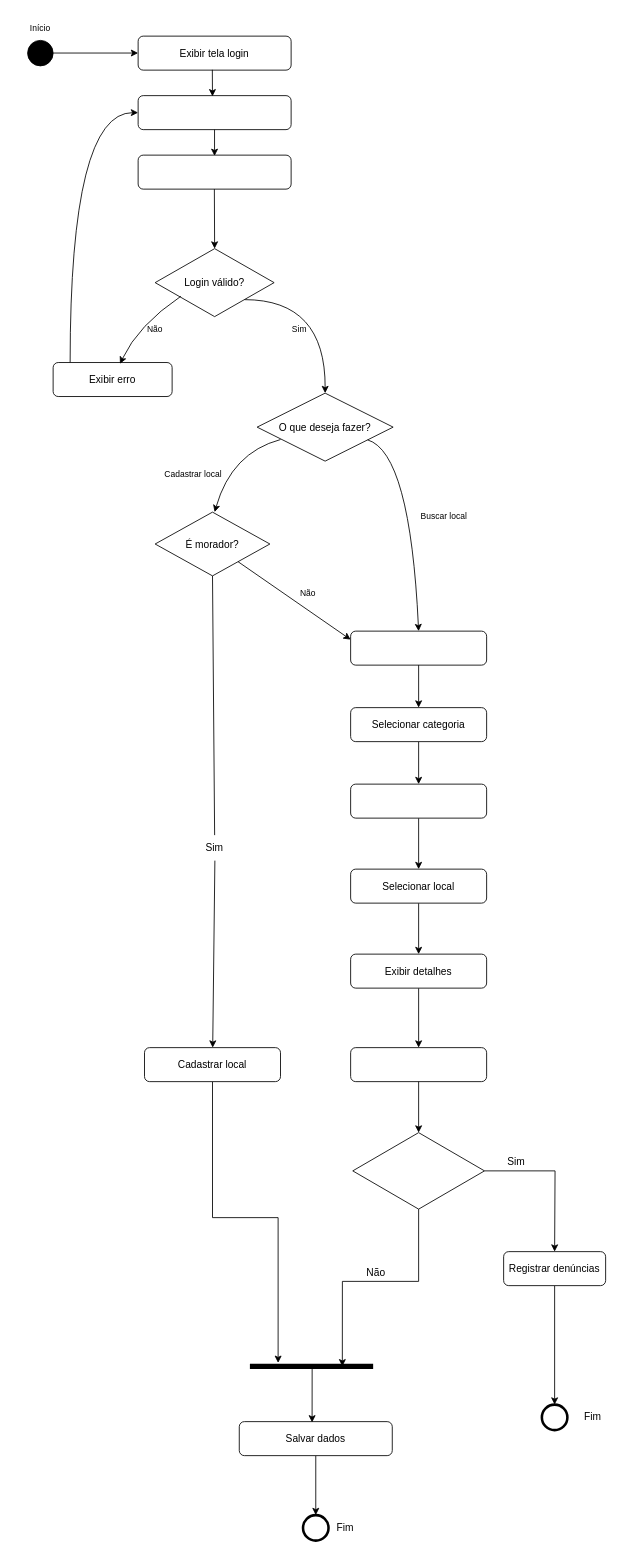
Some shapes in this 632 by 1556 pixel diagram are drawn without their labels. The shapes that lost their labels are listed below. From the top down, each one's centre as x and y in pixels, then its label:
At point 214,112: "Inserir dados".
At point 214,171: "Validar login".
At point 418,647: "Buscar locais".
At point 418,800: "Exibir locais".
At point 418,1064: "Avaliar / Comentar".
At point 418,1170: "Será denunciado?".
